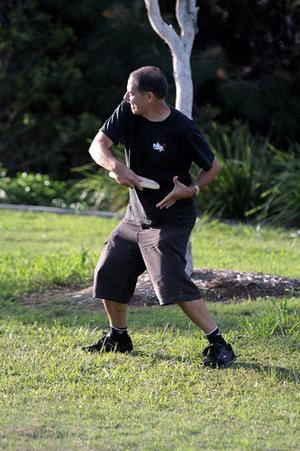person: (88, 67, 236, 370)
